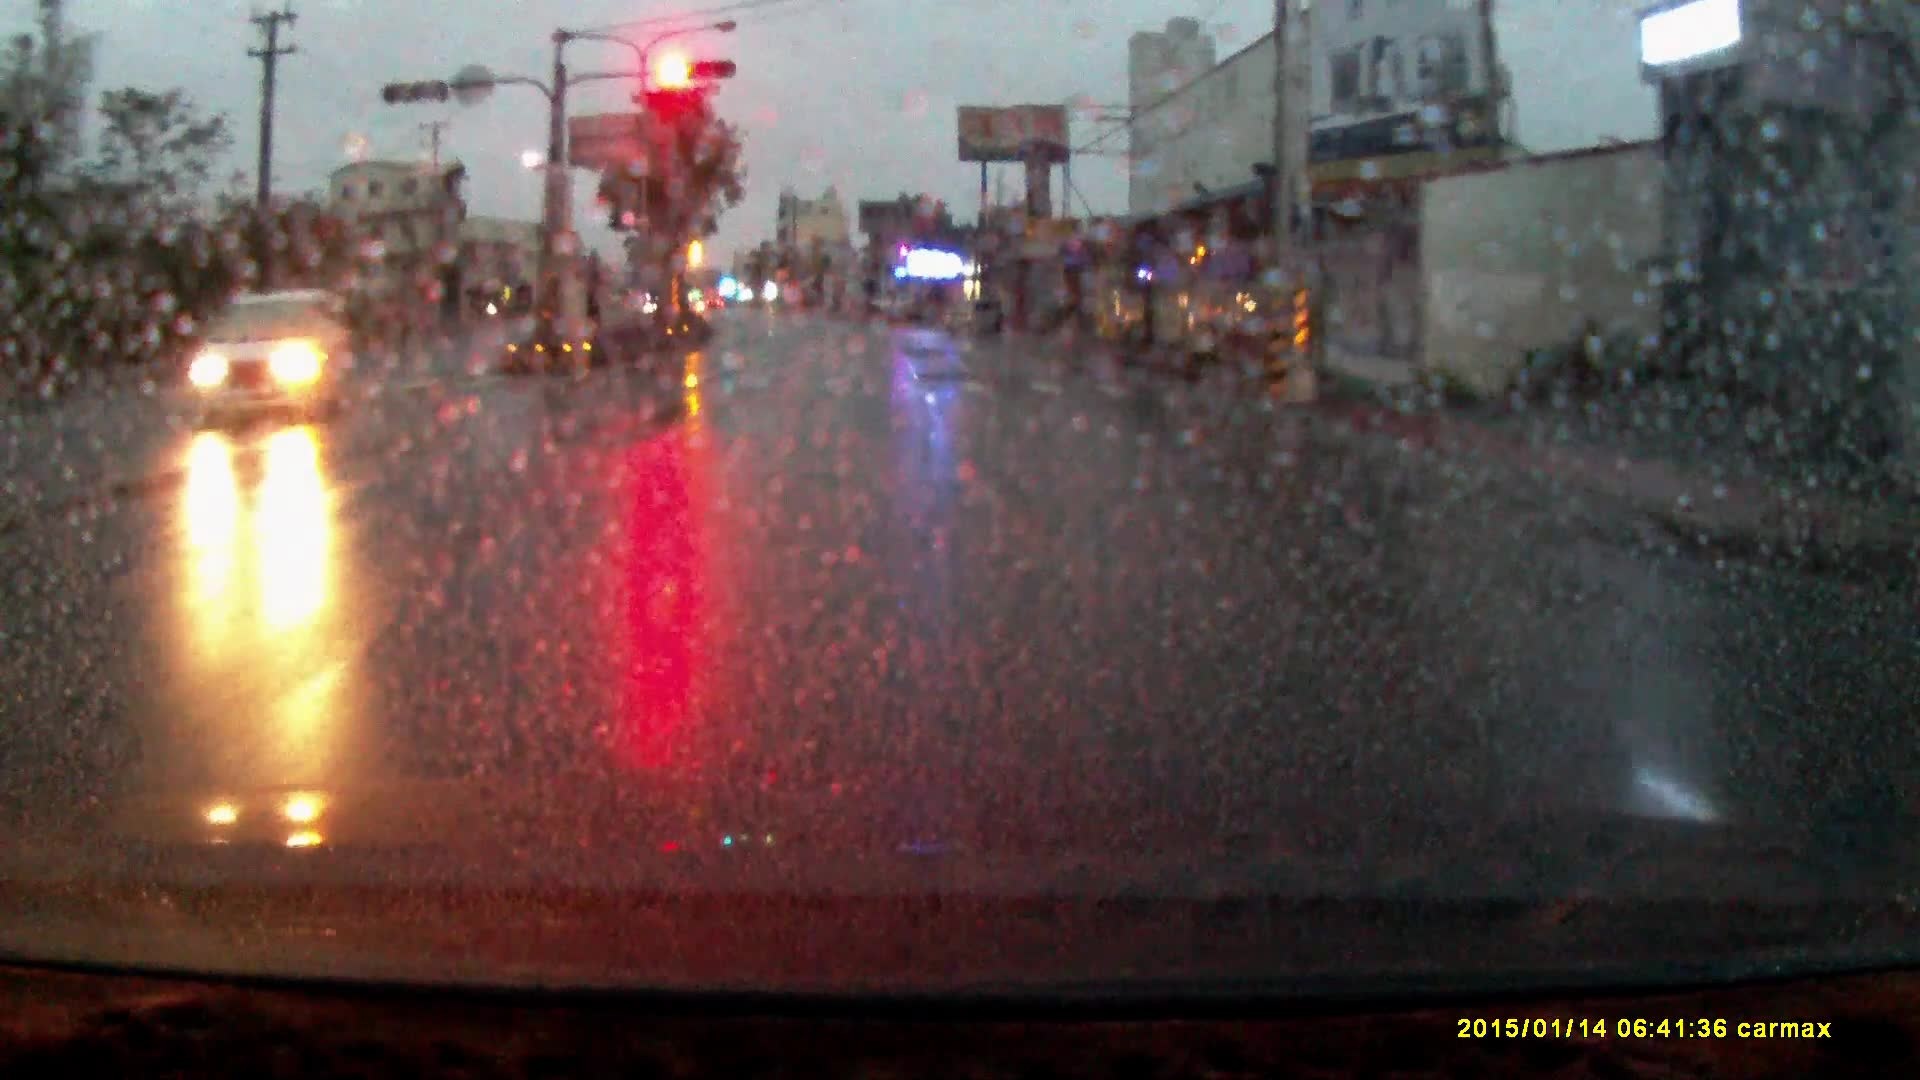vehicle: (177, 286, 345, 426)
